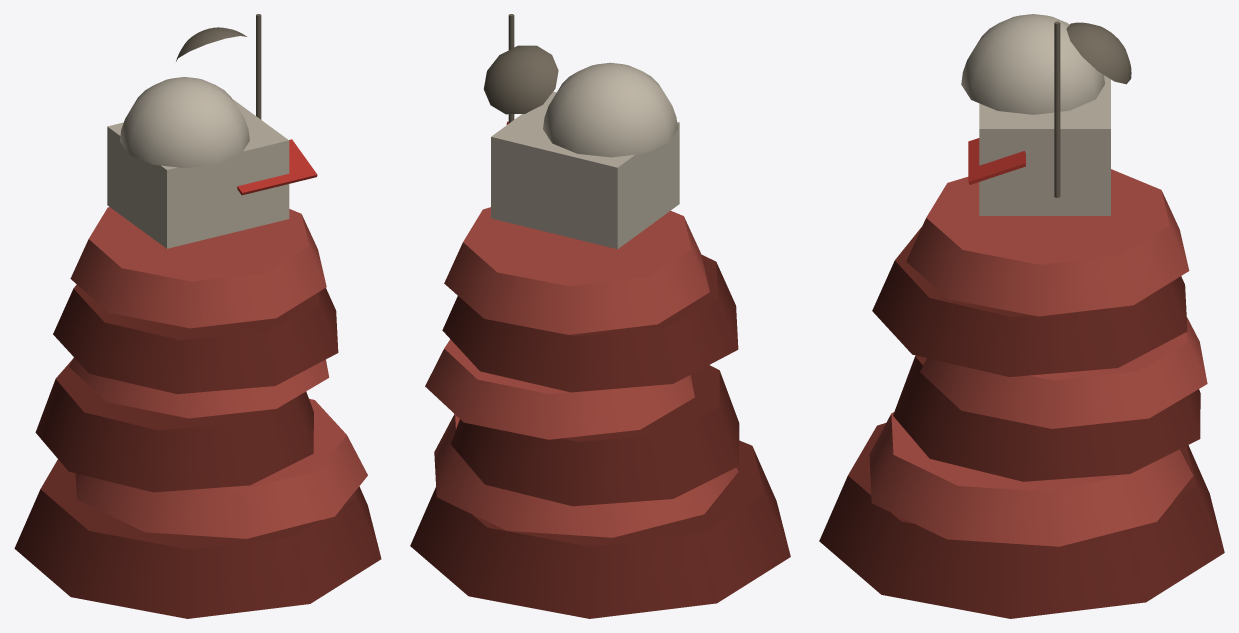
Rendered from red-mesa-fortress-v1.glb.
3 views of the same model, side by side, from view 1: azimuth 30°, elevation 25°; view 2: azimuth 150°, elevation 25°; view 3: azimuth 270°, elevation 25° (orthographic). The views are drawn at different scales.
Parts seen in each view (by area): view 1: Mesa Terrace 1, Mesa Terrace 6, Mesa Terrace 3, Mesa Terrace 5, Mesa Terrace 2, Station Body, Station Dome, Mesa Terrace 4, Red Awning, Tilted Dish, Mast; view 2: Mesa Terrace 1, Mesa Terrace 6, Mesa Terrace 3, Mesa Terrace 5, Station Body, Mesa Terrace 4, Mesa Terrace 2, Station Dome, Tilted Dish; view 3: Mesa Terrace 1, Mesa Terrace 6, Mesa Terrace 2, Mesa Terrace 5, Mesa Terrace 3, Mesa Terrace 4, Station Body, Station Dome, Tilted Dish, Red Awning, Mast.
Part boxes in pixels (<box>): Mesa Terrace 1: <box>14,459,381,618</box>; Mesa Terrace 6: <box>70,207,326,328</box>; Mesa Terrace 3: <box>35,359,313,492</box>; Mesa Terrace 5: <box>53,284,338,394</box>; Mesa Terrace 2: <box>75,398,367,538</box>; Station Body: <box>107,99,289,248</box>; Station Dome: <box>119,77,249,168</box>; Mesa Terrace 4: <box>69,357,329,418</box>; Red Awning: <box>237,139,317,195</box>; Tilted Dish: <box>176,27,246,61</box>; Mast: <box>256,14,261,119</box>; Mesa Terrace 1: <box>410,440,790,618</box>; Mesa Terrace 6: <box>444,207,709,334</box>; Mesa Terrace 3: <box>450,365,739,506</box>; Mesa Terrace 5: <box>442,254,738,392</box>; Station Body: <box>491,91,679,249</box>; Mesa Terrace 4: <box>425,339,694,439</box>; Mesa Terrace 2: <box>434,414,738,537</box>; Station Dome: <box>543,62,677,157</box>; Tilted Dish: <box>483,45,558,114</box>; Mesa Terrace 1: <box>819,423,1224,618</box>; Mesa Terrace 6: <box>906,169,1189,316</box>; Mesa Terrace 2: <box>869,412,1193,546</box>; Mesa Terrace 5: <box>872,227,1187,376</box>; Mesa Terrace 3: <box>893,355,1200,481</box>; Mesa Terrace 4: <box>920,317,1207,428</box>; Station Body: <box>979,75,1110,215</box>; Station Dome: <box>961,14,1104,114</box>; Tilted Dish: <box>1066,22,1131,84</box>; Red Awning: <box>968,138,1025,184</box>; Mast: <box>1054,21,1060,197</box>.
Bounding box in the file's own units: 33.7 × 50.47 × 33.82.
